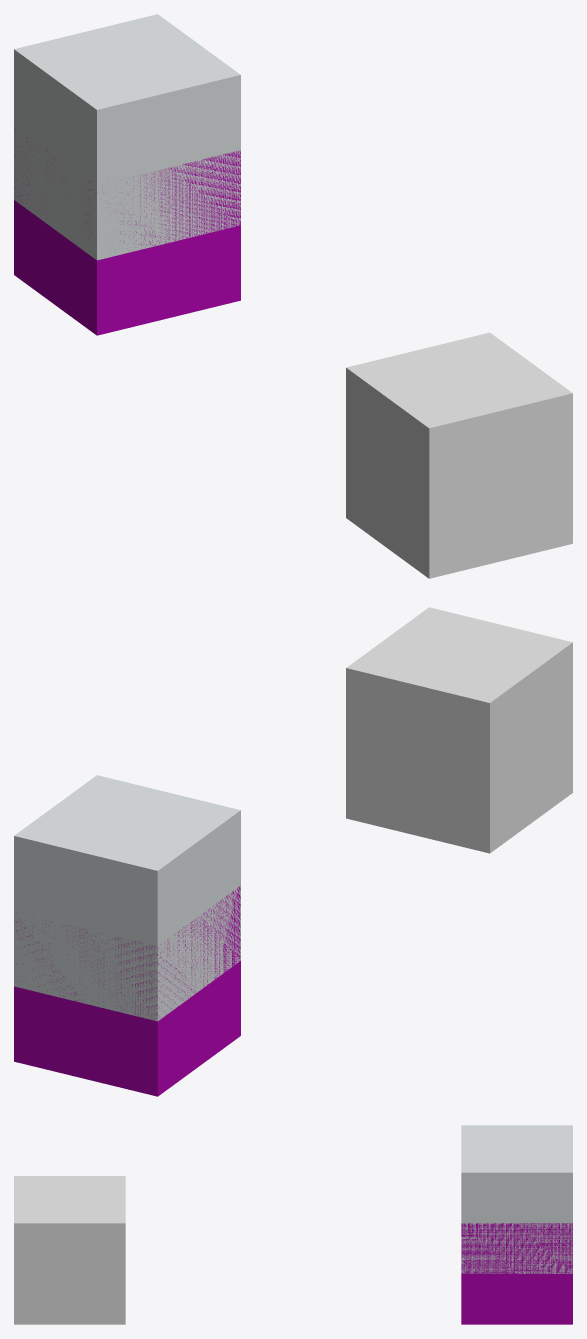
Rendered from updated_threecube.glb.
3 views of the same model, one above another, from view 1: azimuth 30°, elevation 25°; view 2: azimuth 150°, elevation 25°; view 3: azimuth 270°, elevation 25° (orthographic). The views are drawn at different scales.
Parts seen in each view (by area): view 1: CubeL, CubeM, CubeR; view 2: CubeL, CubeM, CubeR; view 3: CubeL, CubeM, CubeR.
Boxes of the visible parts, x1,y1,x2,y2 form: CubeL: (346, 332, 572, 578); CubeM: (14, 14, 240, 260); CubeR: (14, 129, 240, 335); CubeL: (346, 607, 572, 853); CubeM: (14, 775, 240, 1021); CubeR: (14, 886, 240, 1096); CubeL: (14, 1176, 125, 1324); CubeM: (461, 1125, 572, 1273); CubeR: (461, 1223, 572, 1324).
Bounding box in the file's own units: 2 × 3 × 10.
